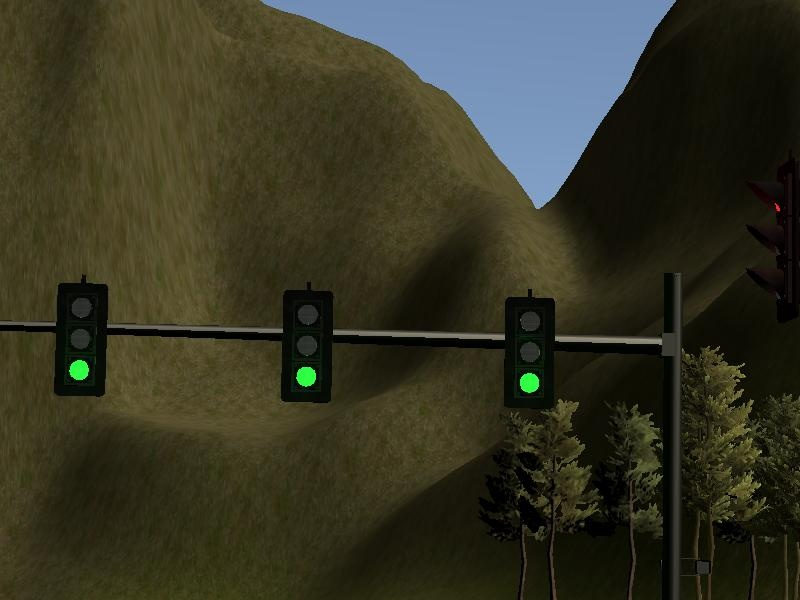GREEN: (503, 297, 555, 410), (55, 285, 107, 395), (285, 292, 332, 402)
